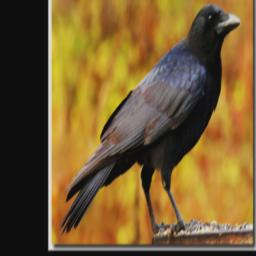Crow: (59, 0, 241, 235)
